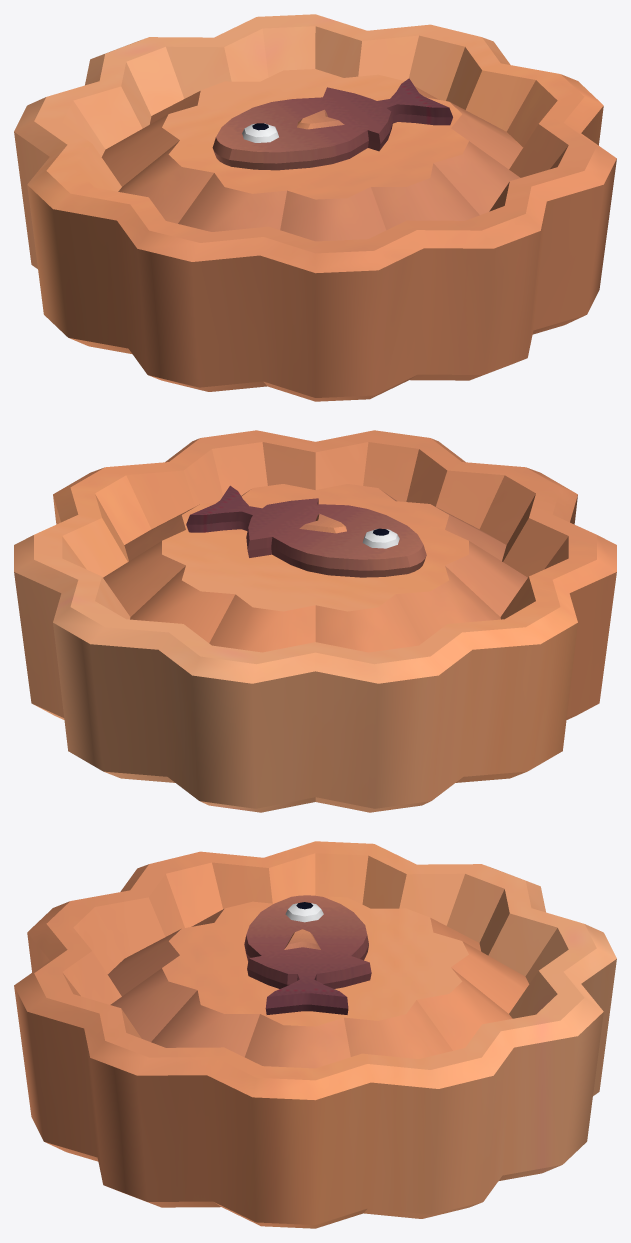
File: FishTart.fbx
3 views of the same model, one above another, from view 1: azimuth 30°, elevation 25°; view 2: azimuth 150°, elevation 25°; view 3: azimuth 270°, elevation 25° (orthographic).
Visible parts, largest first — view 1: Fishy2; view 2: Fishy2; view 3: Fishy2.
Part boxes in pixels (box(x1,y1,x2,y2)): Fishy2: box(14, 14, 616, 401); Fishy2: box(14, 430, 616, 812); Fishy2: box(14, 841, 616, 1228).
Size of the model in its own units: 83.21 by 27.72 by 82.75.
